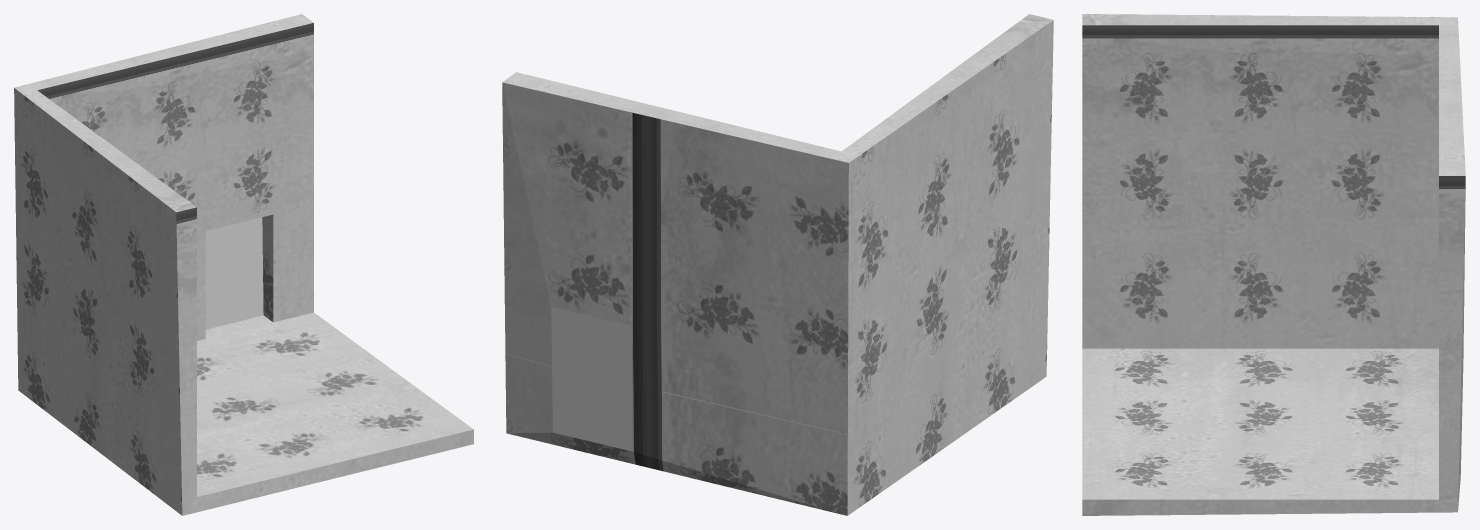
The model's file is finalRoom.fbx.
The picture shows the model from 3 angles, left to right: view 1: azimuth 30°, elevation 25°; view 2: azimuth 150°, elevation 25°; view 3: azimuth 270°, elevation 25°; orthographic projection. The views are drawn at different scales.
Parts seen in each view (by area): view 1: FinalRoom; view 2: FinalRoom; view 3: FinalRoom.
Part boxes in pixels (x1,y1,x2,y2): FinalRoom: (14, 14, 473, 515); FinalRoom: (502, 14, 1053, 515); FinalRoom: (1082, 14, 1465, 515).
Size of the model in its own units: 215 by 211 by 215.
